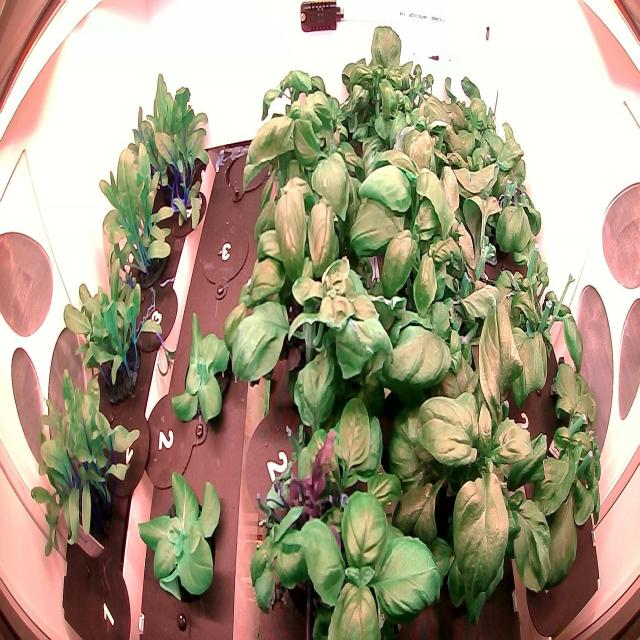empty_pod: (200, 211, 253, 296), (217, 135, 271, 206)
young: (136, 451, 226, 610), (164, 305, 238, 430)
